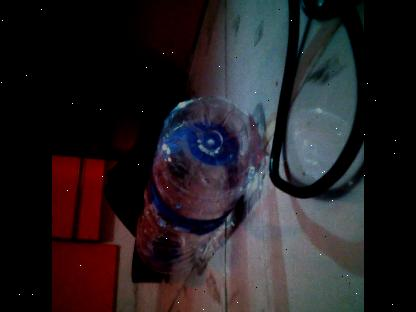Plastic Bottle: (134, 96, 264, 280)
